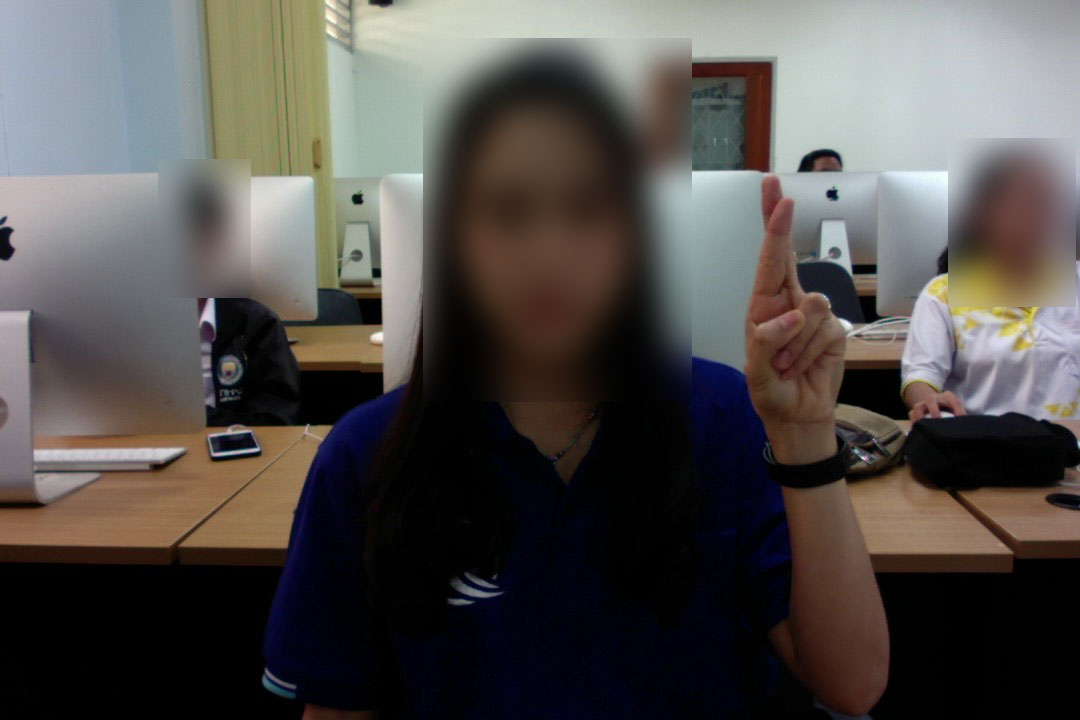rao: (730, 164, 852, 430)
